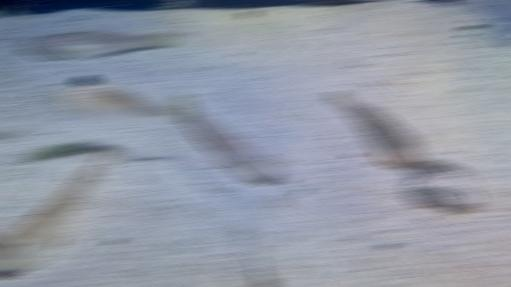Fish: (0, 146, 114, 273), (176, 94, 287, 180), (328, 91, 425, 168), (48, 82, 191, 125), (20, 30, 175, 61), (254, 258, 274, 286), (73, 75, 98, 85)
